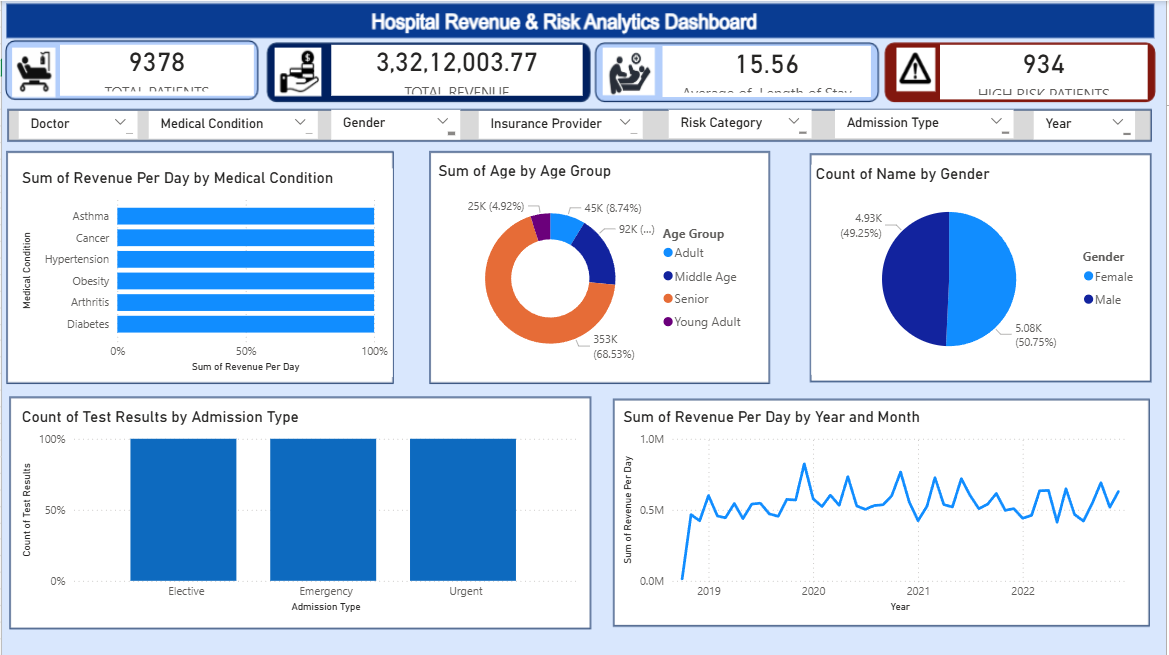

This screenshot's page, from the dashboard's own definition file:
{"tool":"powerbi","page":{"name":" Hospital Revenue & Risk Analytics Project _Dashboard","canvas":[1280,720],"ordinal":0},"visuals":[{"type":"card","fields":{"Values":["Count(Hospital_cleaned_dataset.  Name)"]},"box":[65.9,48,212.7,56.3],"z":0},{"type":"card","fields":{"Values":["Sum(Hospital_cleaned_dataset. Revenue Per Day)"]},"box":[363.6,48,275.8,56.3],"z":1000},{"type":"card","fields":{"Values":["Avg(Hospital_cleaned_dataset. Length of Stay)"]},"box":[727.3,49.4,229.2,56.3],"z":2000},{"type":"card","fields":{"Values":["Count(Hospital_cleaned_dataset)"]},"box":[1031.9,48,227.8,60.4],"z":3000},{"type":"slicer","fields":{"Values":["Hospital_cleaned_dataset.Doctor"]},"box":[20.6,120.8,130.4,30.2],"z":4000},{"type":"slicer","fields":{"Values":["Hospital_cleaned_dataset.Medical Condition"]},"box":[163.3,120.8,185.2,30.2],"z":5000},{"type":"slicer","fields":{"Values":["Hospital_cleaned_dataset.Gender"]},"box":[363.6,119.4,141.3,32.9],"z":6000},{"type":"slicer","fields":{"Values":["Hospital_cleaned_dataset.Insurance Provider"]},"box":[525.6,120.8,179.8,30.2],"z":7000},{"type":"slicer","fields":{"Values":["Hospital_cleaned_dataset.Risk Category"]},"box":[734.1,119.4,156.4,31.6],"z":8000},{"type":"slicer","fields":{"Values":["Hospital_cleaned_dataset.Admission Type"]},"box":[916.6,119.4,196.2,31.6],"z":9000},{"type":"hundredPercentStackedBarChart","fields":{"Category":["Hospital_cleaned_dataset.Medical Condition"],"Y":["Sum(Hospital_cleaned_dataset. Revenue Per Day)"]},"box":[19.2,183.9,411.7,229.2],"z":10000},{"type":"donutChart","fields":{"Category":["Hospital_cleaned_dataset.Age Group"],"Y":["Sum(Hospital_cleaned_dataset.Age)"]},"box":[476.2,175.6,351.3,237.4],"z":11000},{"type":"pieChart","fields":{"Category":["Hospital_cleaned_dataset.Gender"],"Y":["CountNonNull(Hospital_cleaned_dataset.  Name)"]},"box":[890.6,179.8,369.1,230.5],"z":12000},{"type":"hundredPercentStackedColumnChart","fields":{"Y":["CountNonNull(Hospital_cleaned_dataset.Test Results)"],"Category":["Hospital_cleaned_dataset.Admission Type"]},"box":[19.2,446,620.2,230.5],"z":13000},{"type":"lineChart","fields":{"Category":["Query1.Calender.Variation.Date Hierarchy.Year","Query1.Calender.Variation.Date Hierarchy.Month"],"Y":["Sum(Hospital_cleaned_dataset. Revenue Per Day)"]},"box":[679.2,446,566.7,230.5],"z":14000},{"type":"slicer","fields":{"Values":["Query1.Calender.Variation.Date Hierarchy.Year"]},"box":[1134.8,120.8,111.1,31.6],"z":15000}]}

Visuals, with their boxes in screenshot pixels (x1, y1, x2, y2), scaled from the page's 1280x720 canvas onto the 1169x655 screenshot:
card - Count(Hospital_cleaned_dataset.  Name): l=60, t=44, r=254, b=95
card - Sum(Hospital_cleaned_dataset. Revenue Per Day): l=332, t=44, r=584, b=95
card - Avg(Hospital_cleaned_dataset. Length of Stay): l=664, t=45, r=874, b=96
card - Count(Hospital_cleaned_dataset): l=942, t=44, r=1150, b=99
slicer - Hospital_cleaned_dataset.Doctor: l=19, t=110, r=138, b=137
slicer - Hospital_cleaned_dataset.Medical Condition: l=149, t=110, r=318, b=137
slicer - Hospital_cleaned_dataset.Gender: l=332, t=109, r=461, b=139
slicer - Hospital_cleaned_dataset.Insurance Provider: l=480, t=110, r=644, b=137
slicer - Hospital_cleaned_dataset.Risk Category: l=670, t=109, r=813, b=137
slicer - Hospital_cleaned_dataset.Admission Type: l=837, t=109, r=1016, b=137
hundredPercentStackedBarChart - Hospital_cleaned_dataset.Medical Condition x Sum(Hospital_cleaned_dataset. Revenue Per Day): l=18, t=167, r=394, b=376
donutChart - Hospital_cleaned_dataset.Age Group x Sum(Hospital_cleaned_dataset.Age): l=435, t=160, r=756, b=376
pieChart - Hospital_cleaned_dataset.Gender x CountNonNull(Hospital_cleaned_dataset.  Name): l=813, t=164, r=1150, b=373
hundredPercentStackedColumnChart - CountNonNull(Hospital_cleaned_dataset.Test Results) x Hospital_cleaned_dataset.Admission Type: l=18, t=406, r=584, b=615
lineChart - Query1.Calender.Variation.Date Hierarchy.Year x Query1.Calender.Variation.Date Hierarchy.Month: l=620, t=406, r=1138, b=615
slicer - Query1.Calender.Variation.Date Hierarchy.Year: l=1036, t=110, r=1138, b=139
